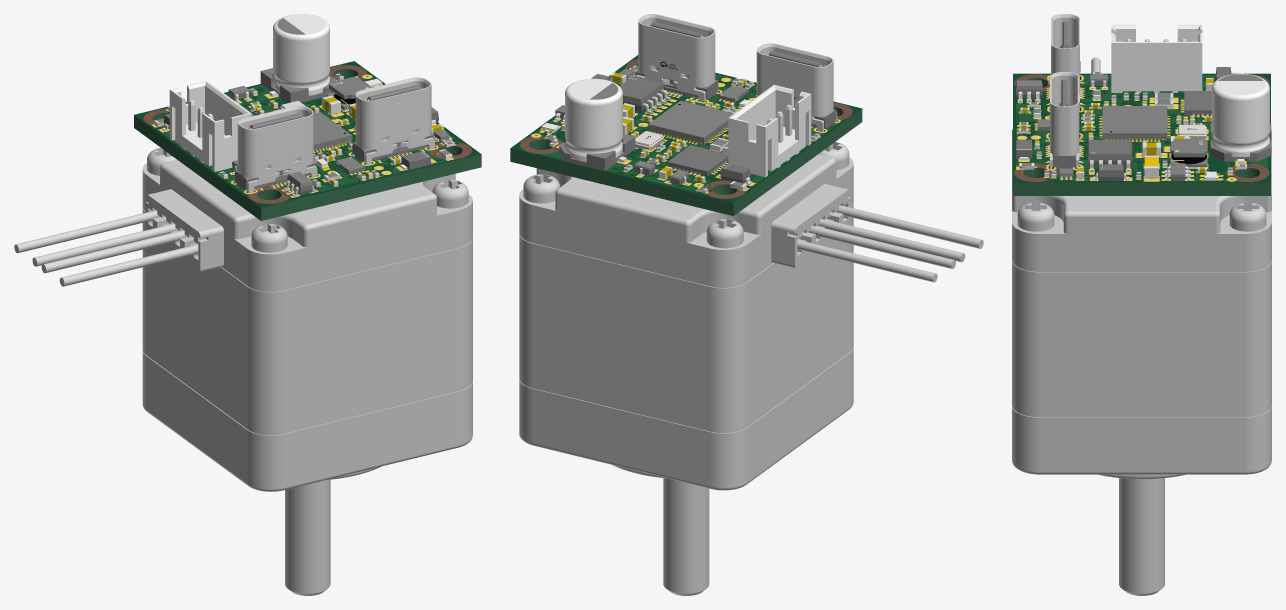
Rendered from development-assembly.glb.
3 views of the same model, side by side, from view 1: azimuth 30°, elevation 25°; view 2: azimuth 150°, elevation 25°; view 3: azimuth 270°, elevation 25° (orthographic).
Parts seen in each view (by area): view 1: OEM_11HS12_0674S, Box0, J_PD, J_DATA, C_BULK, J_MOTOR, U_MCU, L_BUCK; view 2: OEM_11HS12_0674S, Box0, J_PD, J_MOTOR, C_BULK, J_DATA, U_MCU, U_PD, U_DRV; view 3: OEM_11HS12_0674S, Box0, J_MOTOR, C_BULK, J_PD, U_MCU, J_DATA, U_PD, L_BUCK, U_DRV, U_ESD, D_PD (+4 smaller).
Boxes of the visible parts, left/top/right/bottom form: OEM_11HS12_0674S: left=14, top=147, right=472, bottom=595; Box0: left=134, top=61, right=481, bottom=220; J_PD: left=352, top=77, right=434, bottom=164; J_DATA: left=234, top=105, right=317, bottom=192; C_BULK: left=260, top=14, right=335, bottom=102; J_MOTOR: left=169, top=80, right=251, bottom=171; U_MCU: left=313, top=112, right=352, bottom=151; L_BUCK: left=326, top=77, right=371, bottom=111; OEM_11HS12_0674S: left=519, top=142, right=983, bottom=595; Box0: left=510, top=55, right=862, bottom=215; J_PD: left=635, top=14, right=718, bottom=102; J_MOTOR: left=728, top=85, right=811, bottom=177; C_BULK: left=559, top=78, right=635, bottom=170; J_DATA: left=756, top=43, right=837, bottom=131; U_MCU: left=648, top=100, right=733, bottom=144; U_PD: left=619, top=76, right=670, bottom=113; U_DRV: left=667, top=145, right=728, bottom=176; OEM_11HS12_0674S: left=1012, top=57, right=1271, bottom=595; Box0: left=1013, top=73, right=1270, bottom=195; J_MOTOR: left=1111, top=24, right=1202, bottom=92; C_BULK: left=1210, top=73, right=1271, bottom=164; J_PD: left=1047, top=72, right=1081, bottom=169; U_MCU: left=1102, top=106, right=1167, bottom=140; J_DATA: left=1048, top=14, right=1082, bottom=111; U_PD: left=1087, top=140, right=1132, bottom=171; L_BUCK: left=1170, top=138, right=1207, bottom=168; U_DRV: left=1184, top=91, right=1211, bottom=115; U_ESD: left=1015, top=80, right=1042, bottom=102; D_PD: left=1093, top=164, right=1128, bottom=181.
Size of the model in its own units: 48.2 by 62.85 by 28.2.
29 materials, 2 textured.
